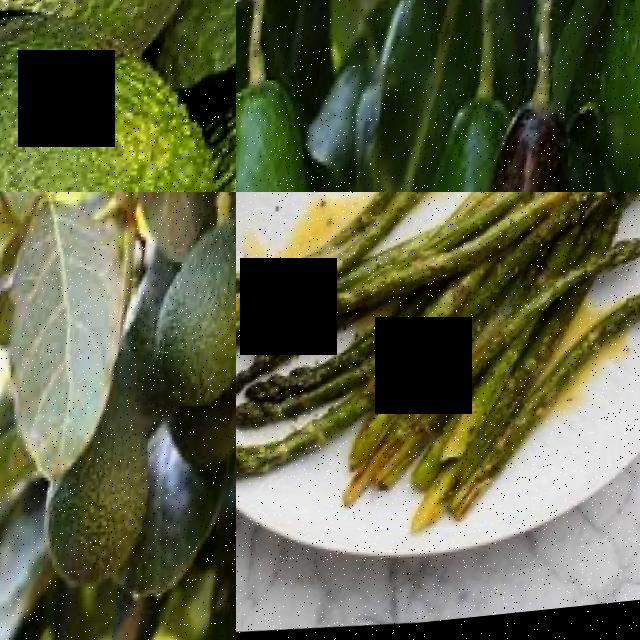avocado: (0, 0, 236, 192), (40, 333, 164, 597), (0, 0, 235, 125), (149, 201, 236, 431), (445, 100, 640, 192), (236, 65, 362, 192), (374, 88, 490, 192), (166, 0, 236, 109)
